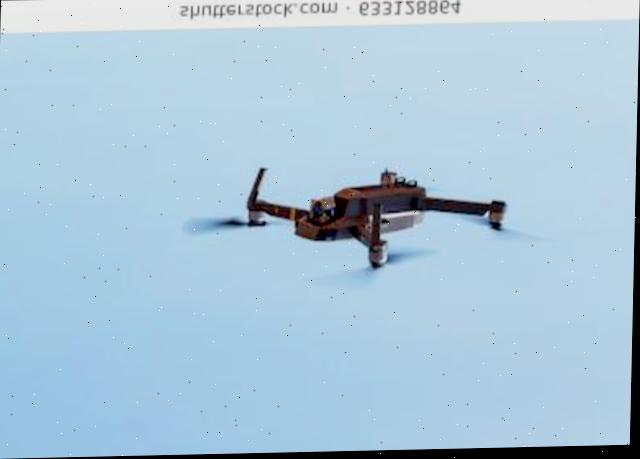drone: (177, 153, 559, 320)
